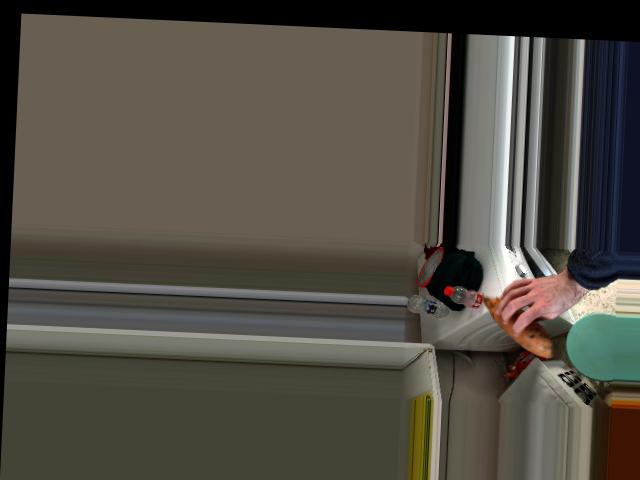sweet_potato: (483, 280, 547, 355)
